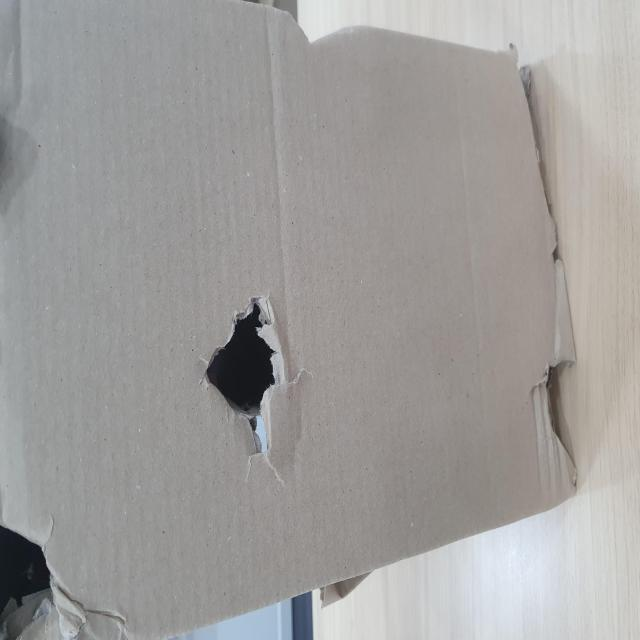damaged: (104, 356, 196, 512), (0, 0, 79, 115)
